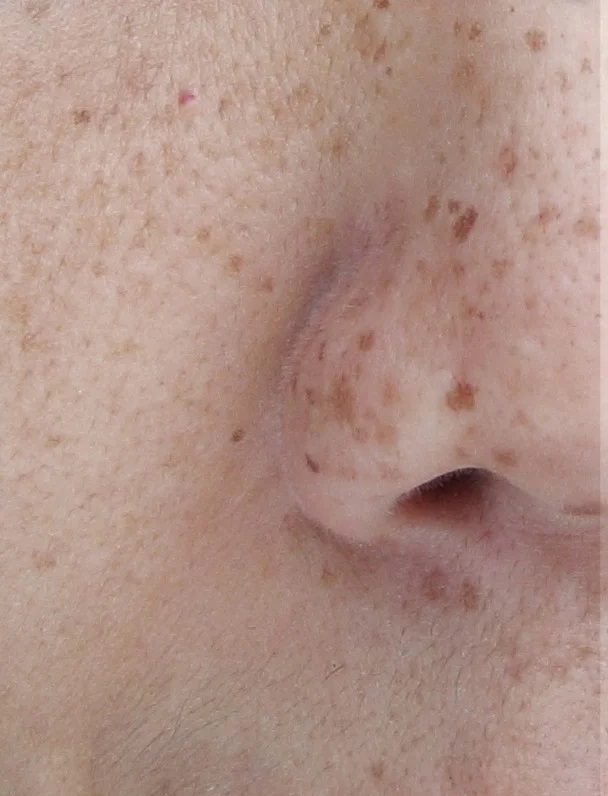Flek Hitam: (172, 3, 608, 460)
